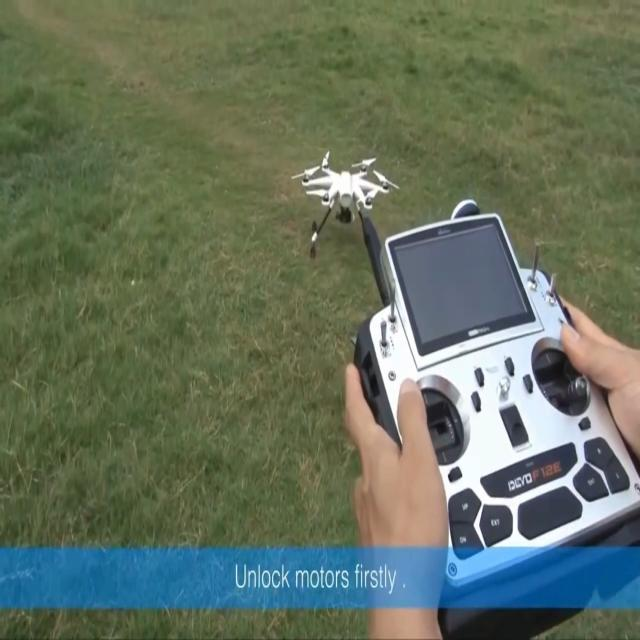drone: (292, 150, 399, 260)
